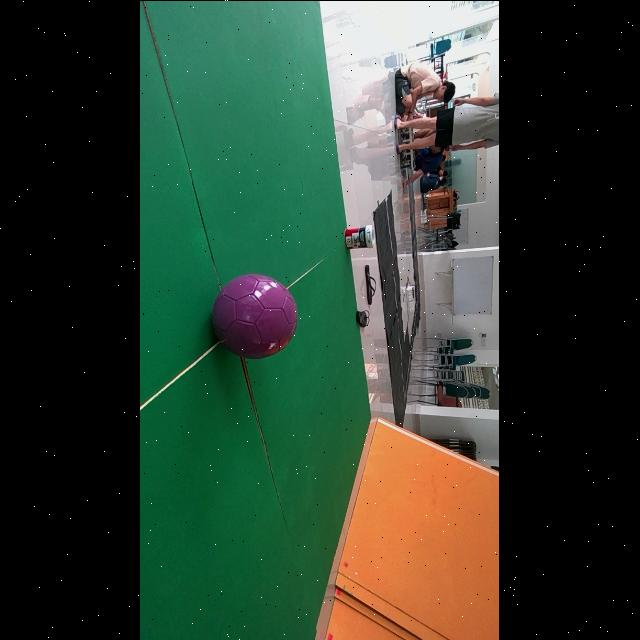P: (213, 274, 298, 358)
